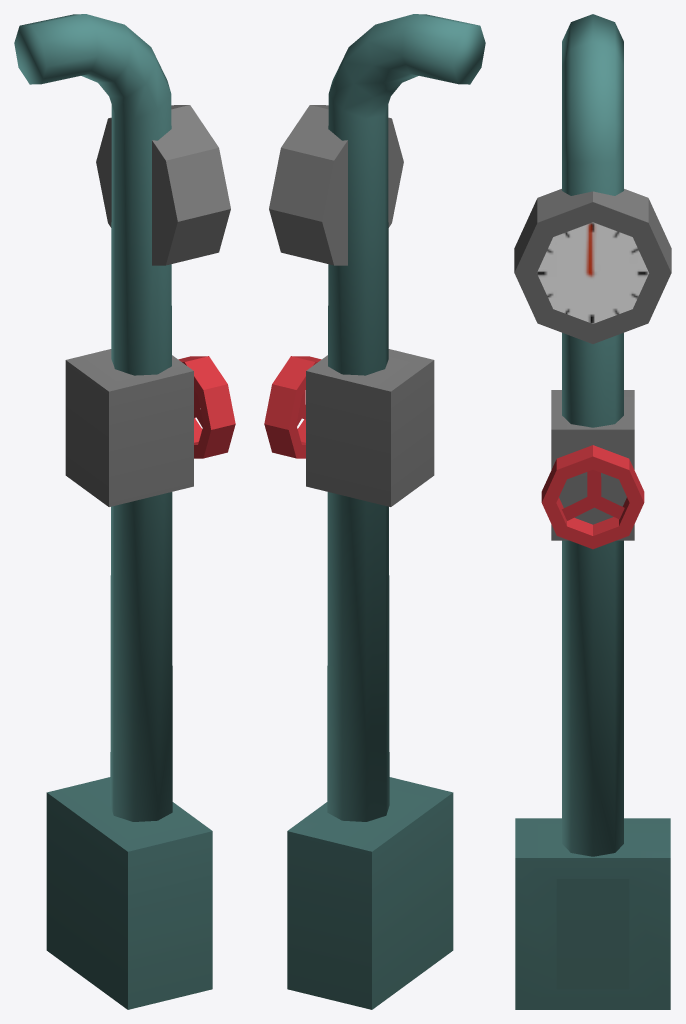
The model's file is OB_Lever_2.fbx.
The picture shows the model from 3 angles, left to right: view 1: azimuth 30°, elevation 25°; view 2: azimuth 150°, elevation 25°; view 3: azimuth 270°, elevation 25°; orthographic projection. The views are drawn at different scales.
Visible parts, largest first — view 1: OB_Lever_2; view 2: OB_Lever_2; view 3: OB_Lever_2.
Part boxes in pixels (box(x1,y1,x2,y2)): OB_Lever_2: box(14, 14, 235, 1009); OB_Lever_2: box(264, 14, 485, 1009); OB_Lever_2: box(514, 14, 671, 1009).
Bounding box in the file's own units: 57.81 × 298 × 45.69.
